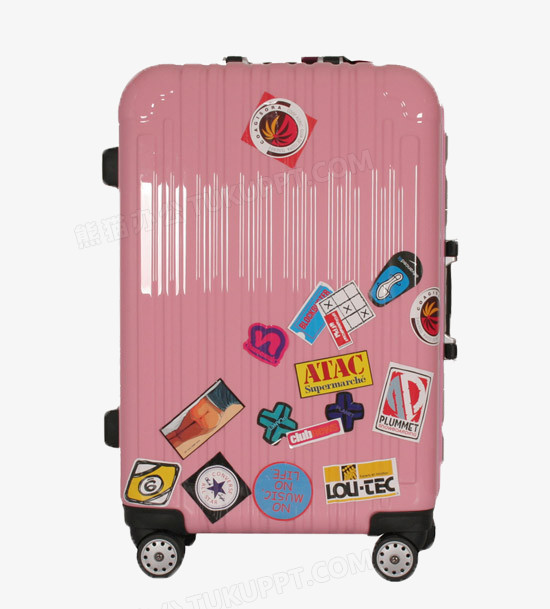box: (118, 65, 444, 533)
handle: (444, 239, 458, 361)
wheel: (372, 534, 418, 582), (136, 532, 185, 577)
